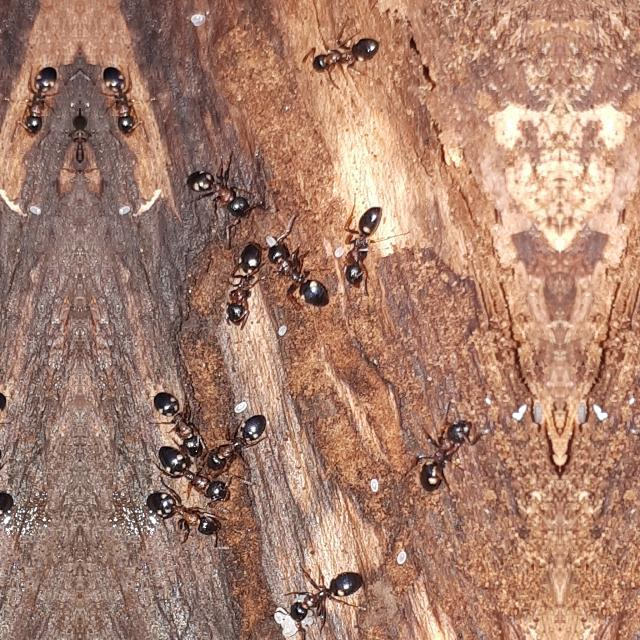Dolichoderus: (278, 556, 368, 640), (411, 405, 484, 503), (260, 227, 332, 316), (140, 478, 234, 546), (302, 20, 386, 90), (336, 197, 392, 296), (186, 156, 258, 228), (206, 400, 274, 474), (154, 436, 230, 502), (149, 378, 211, 458), (220, 232, 268, 330), (15, 52, 66, 140), (94, 52, 144, 140), (0, 476, 18, 545)
